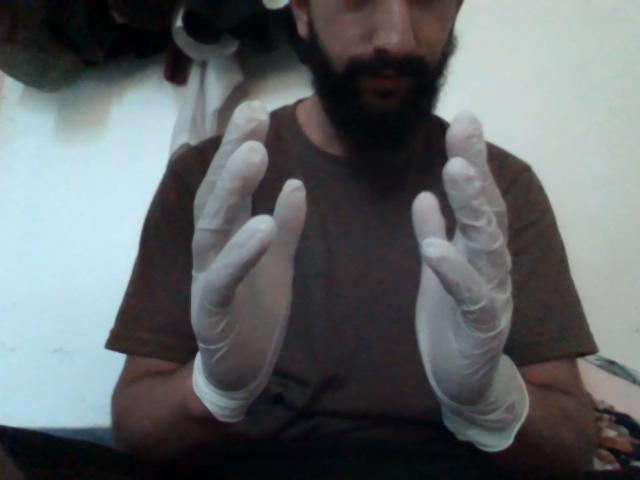gloves: (394, 111, 543, 439), (171, 84, 321, 407)
